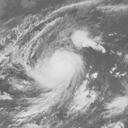cyclone: (2, 12, 95, 119)
